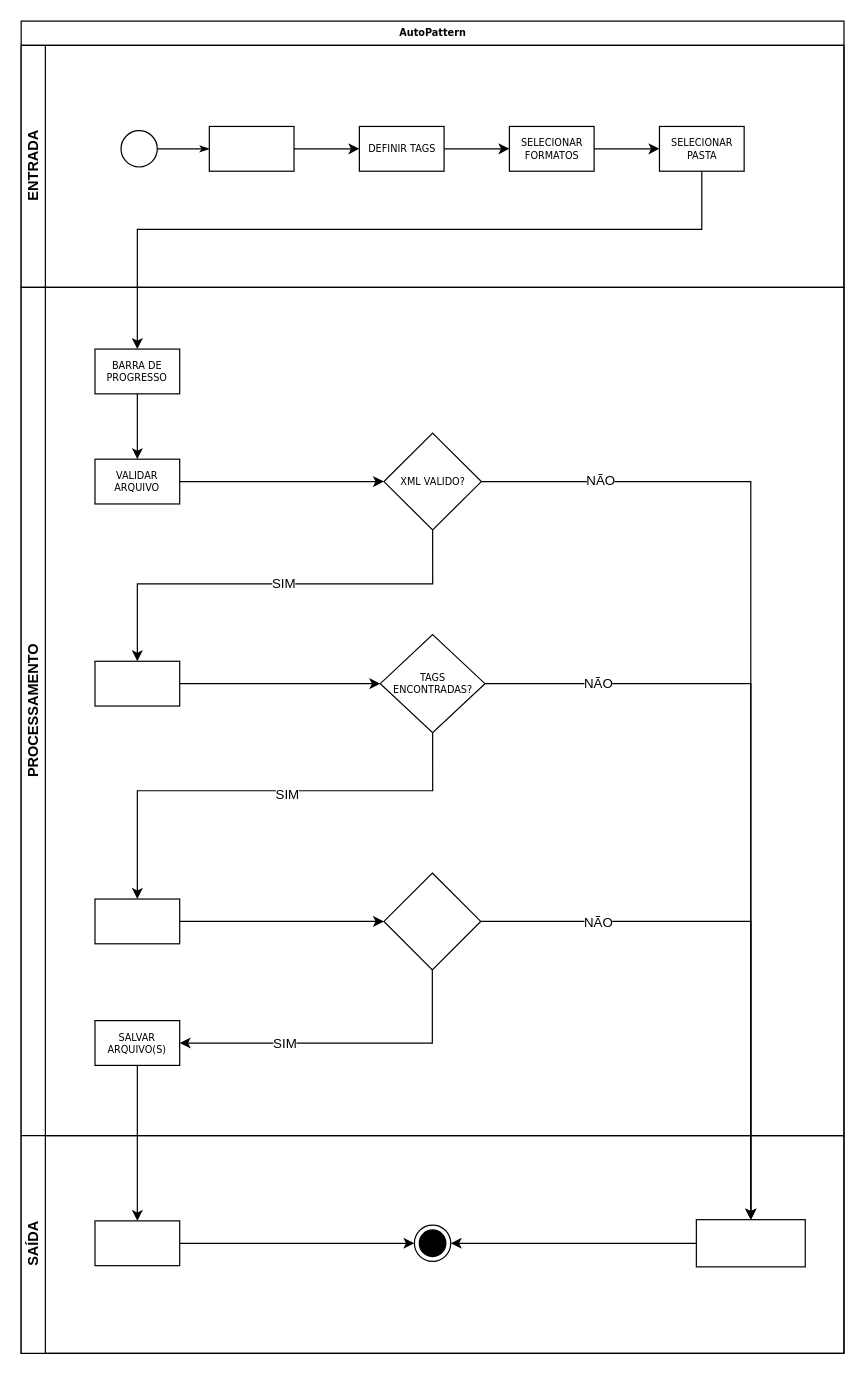
Image size: 865x1375. Some labels were removed from this diagram. Here are the shapes that lost their labels. From the top down, the centre of each, then its label:
At (x=251, y=148): "SELECIONAR ARQUIVO".
At (x=137, y=683): "EXTRAIR DADOS".
At (x=137, y=921): "GERANDO ARQUIVO(S)".
At (x=432, y=921): "GERADO(S)?".
At (x=137, y=1243): "MENSAGEM DE SUCESSO".
At (x=750, y=1242): "MENSAGEM DE ERRO PERSONALIZADA".
